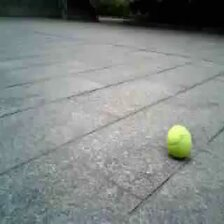tennis: (169, 125, 192, 157)
